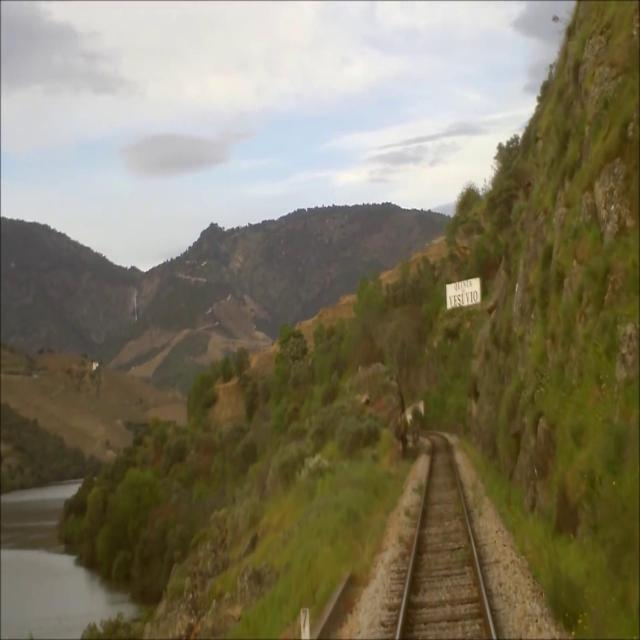rail-track: (401, 438, 490, 639)
